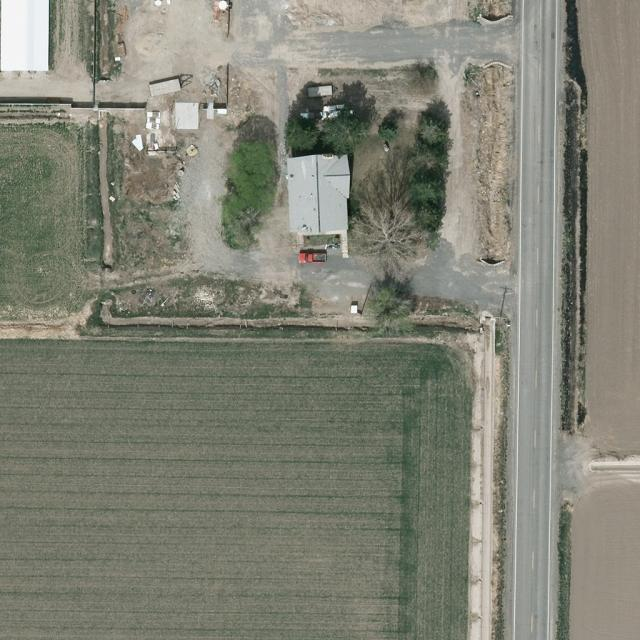vehicle: (296, 250, 328, 264)
